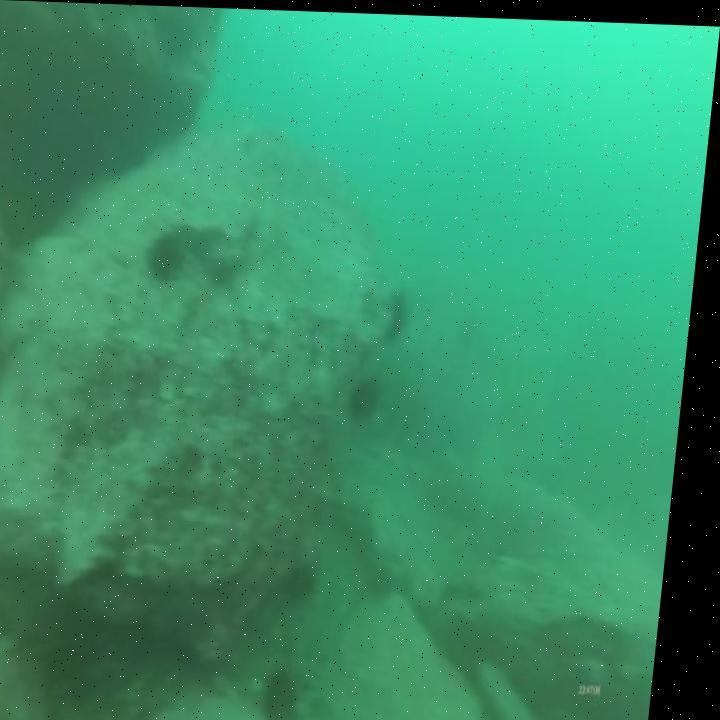echinus: (146, 222, 196, 290), (267, 658, 320, 720), (287, 550, 335, 605), (351, 368, 393, 423), (386, 283, 417, 345)
